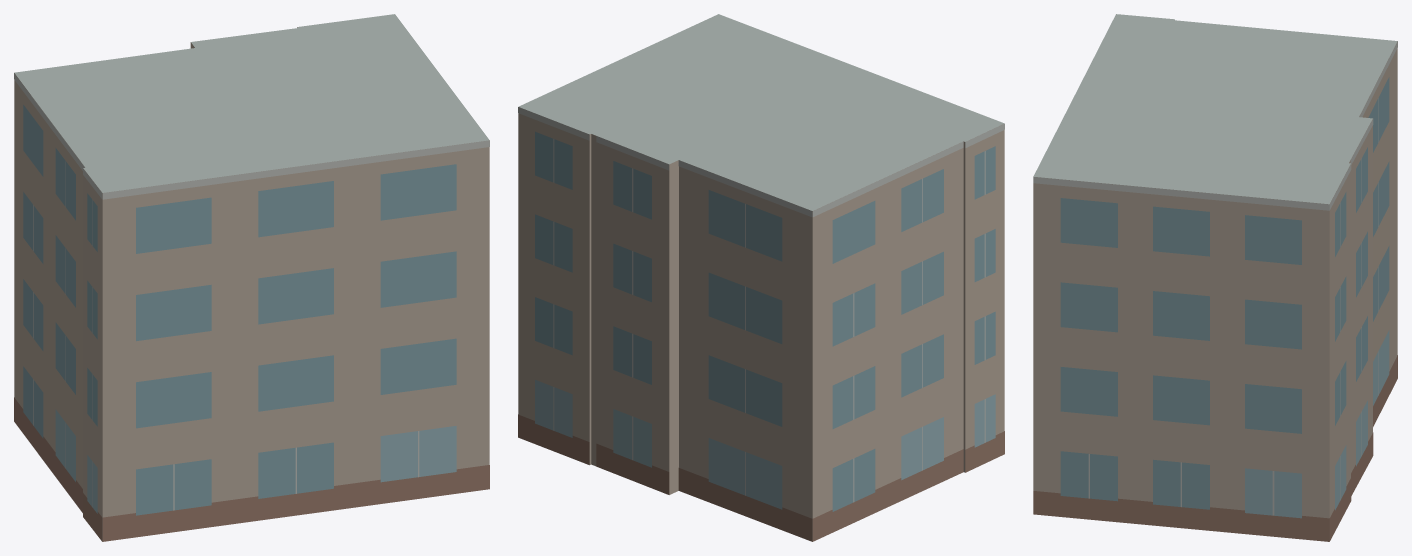
The model's file is survey-upis-32547153.glb.
3 renders of one model, left to right at view 1: azimuth 30°, elevation 25°; view 2: azimuth 150°, elevation 25°; view 3: azimuth 270°, elevation 25°, orthographic. The views are drawn at different scales.
Visible parts, largest first — view 1: survey-upis-32547153.tmp; view 2: survey-upis-32547153.tmp; view 3: survey-upis-32547153.tmp.
Boxes of the visible parts, box(x1,y1,x2,y2) form: survey-upis-32547153.tmp: box(14, 14, 489, 541); survey-upis-32547153.tmp: box(518, 14, 1004, 541); survey-upis-32547153.tmp: box(1033, 14, 1397, 541).
Bounding box in the file's own units: 15.36 × 12.7 × 12.43.
